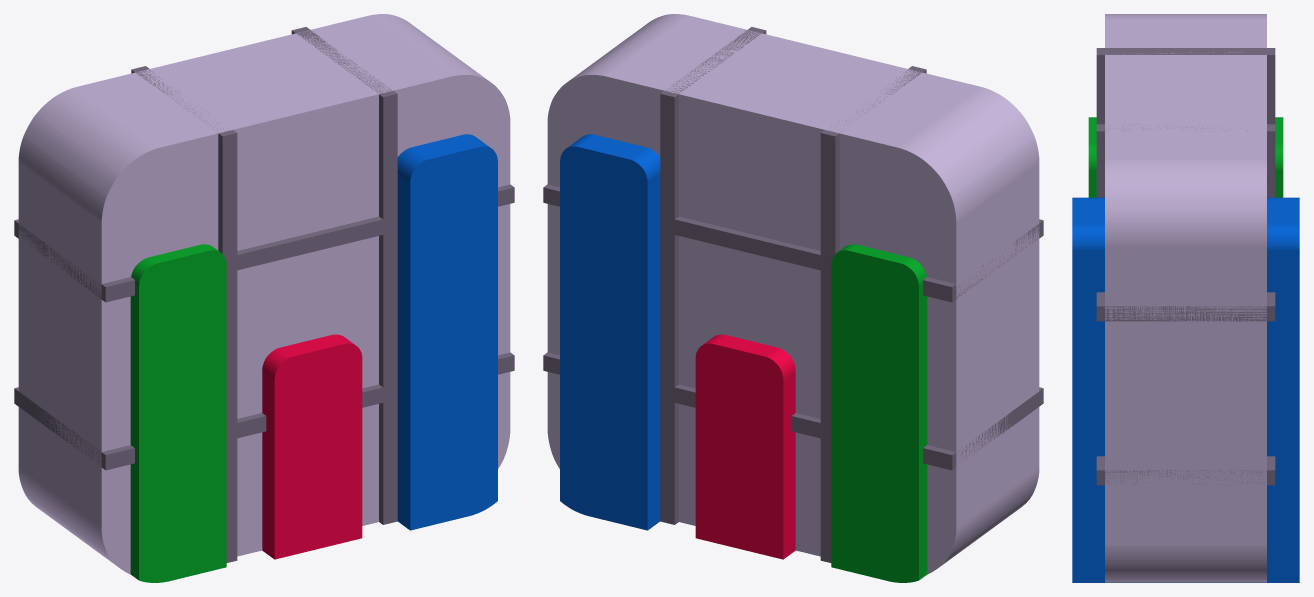
The picture shows the model from 3 angles, left to right: view 1: azimuth 30°, elevation 25°; view 2: azimuth 150°, elevation 25°; view 3: azimuth 270°, elevation 25°; orthographic projection. The views are drawn at different scales.
Visible parts, largest first — view 1: U+1F4CA_layer00_obj00, U+1F4CA_layer04_obj00, U+1F4CA_layer02_obj00, U+1F4CA_layer01_obj00, U+1F4CA_layer03_obj00; view 2: U+1F4CA_layer00_obj00, U+1F4CA_layer04_obj00, U+1F4CA_layer02_obj00, U+1F4CA_layer01_obj00, U+1F4CA_layer03_obj00; view 3: U+1F4CA_layer00_obj00, U+1F4CA_layer04_obj00, U+1F4CA_layer01_obj00, U+1F4CA_layer02_obj00.
Part boxes in pixels (left/top/right/bottom): U+1F4CA_layer00_obj00: left=18, top=14, right=510, bottom=574; U+1F4CA_layer04_obj00: left=397, top=134, right=497, bottom=530; U+1F4CA_layer02_obj00: left=130, top=244, right=226, bottom=582; U+1F4CA_layer01_obj00: left=14, top=27, right=514, bottom=562; U+1F4CA_layer03_obj00: left=262, top=334, right=362, bottom=559; U+1F4CA_layer00_obj00: left=547, top=14, right=1039, bottom=574; U+1F4CA_layer04_obj00: left=560, top=134, right=660, bottom=530; U+1F4CA_layer02_obj00: left=831, top=244, right=927, bottom=582; U+1F4CA_layer01_obj00: left=543, top=27, right=1043, bottom=562; U+1F4CA_layer03_obj00: left=695, top=334, right=795, bottom=559; U+1F4CA_layer00_obj00: left=1105, top=14, right=1266, bottom=582; U+1F4CA_layer04_obj00: left=1072, top=197, right=1299, bottom=582; U+1F4CA_layer01_obj00: left=1096, top=48, right=1275, bottom=485; U+1F4CA_layer02_obj00: left=1088, top=117, right=1283, bottom=197.
Bounding box in the file's own units: 0.5678 × 0.5677 × 0.28.
